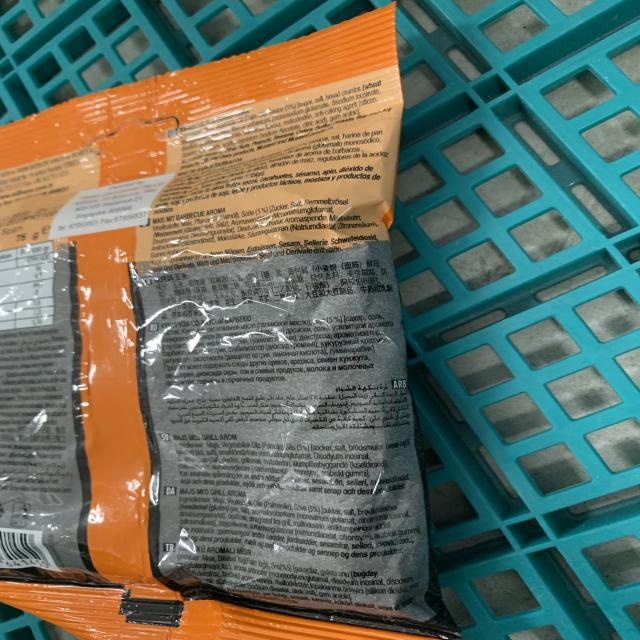object_name: (6, 66, 416, 631)
